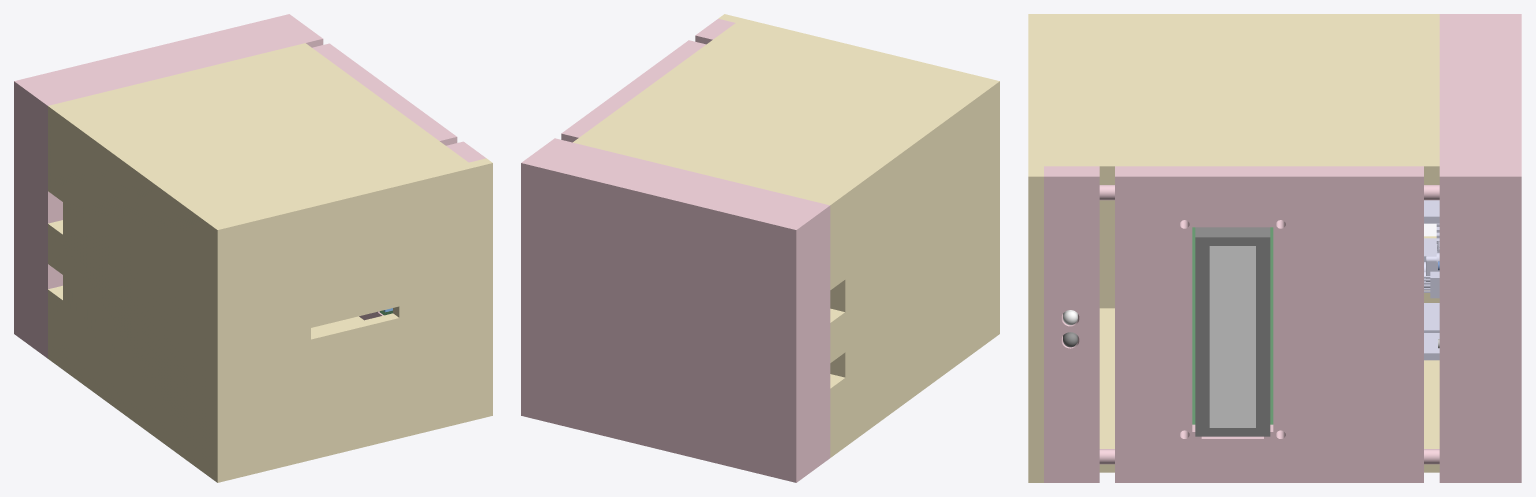
File: Hassalah_amad.glb
3 renders of one model, left to right at view 1: azimuth 30°, elevation 25°; view 2: azimuth 150°, elevation 25°; view 3: azimuth 270°, elevation 25°, orthographic. The views are drawn at different scales.
Visible parts, largest first — view 1: Part 11, Part 2 (×2); view 2: Part 2 (×2), Part 11, Part 4; view 3: Part 2 (×2), Part 11, Part 4, 16x2 LCD Display, PartBody.
Part boxes in pixels (box(x1,y1,x2,y2)): Part 11: box(48, 43, 492, 482); Part 2 (×2): box(14, 14, 457, 358); Part 2 (×2): box(521, 40, 830, 482); Part 11: box(573, 14, 999, 457); Part 4: box(695, 18, 735, 44); Part 2 (×2): box(1109, 14, 1521, 482); Part 11: box(1028, 14, 1439, 482); Part 4: box(1044, 166, 1108, 482); 16x2 LCD Display: box(1192, 227, 1273, 436); PartBody: box(1424, 200, 1439, 360).
Size of the model in its own units: 0.1281 by 0.1093 by 0.1595.
